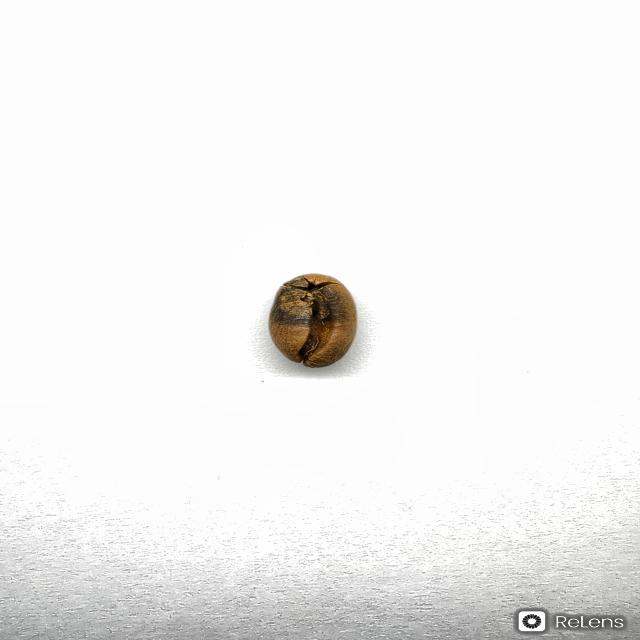Scorched: (269, 274, 358, 368)
